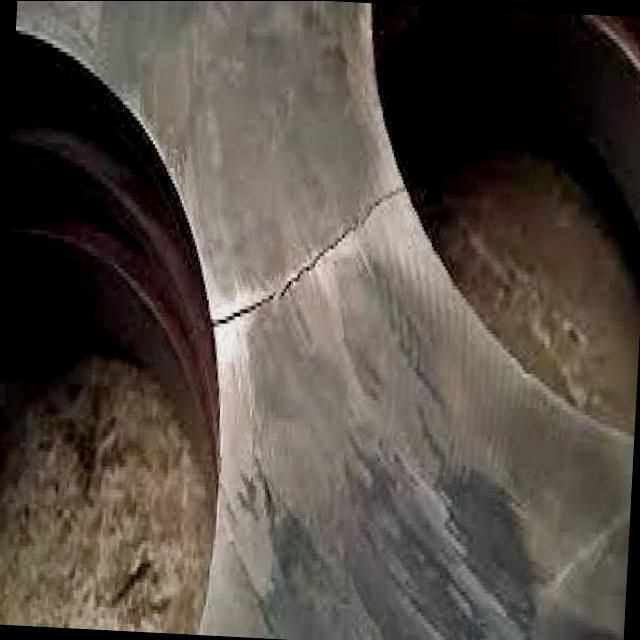defect: (206, 184, 411, 333)
